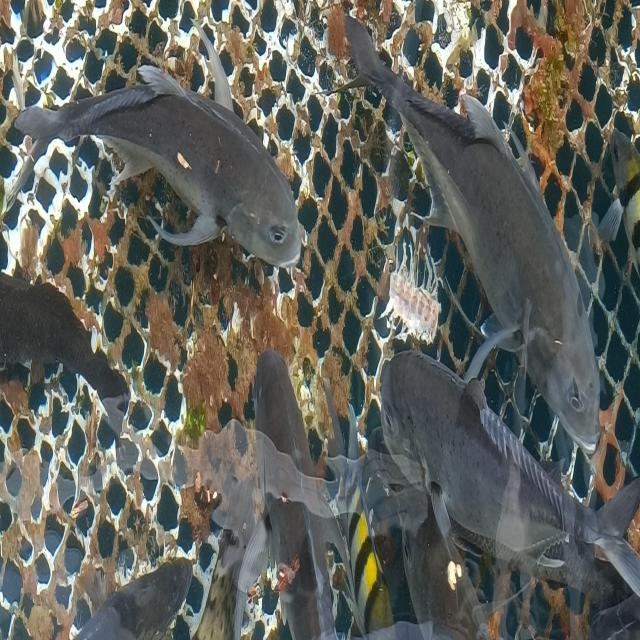ikan: (351, 14, 599, 454), (24, 34, 306, 290), (381, 348, 640, 622), (217, 350, 354, 638), (2, 263, 131, 440), (392, 487, 496, 640), (65, 560, 192, 640)
